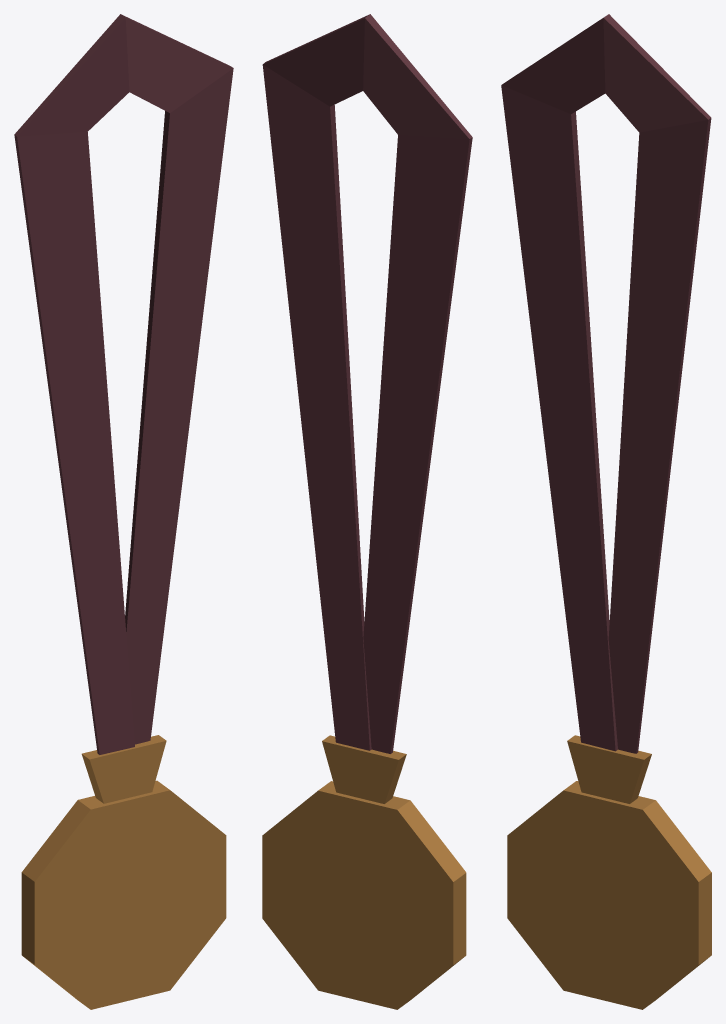
File: medal-big-gold-a.fbx
The picture shows the model from 3 angles, left to right: view 1: azimuth 30°, elevation 25°; view 2: azimuth 150°, elevation 25°; view 3: azimuth 330°, elevation 25°; orthographic projection.
Visible parts, largest first — view 1: medal-big-gold-a; view 2: medal-big-gold-a; view 3: medal-big-gold-a.
Boxes of the visible parts, x1,y1,x2,y2 form: medal-big-gold-a: (14,14,233,1009); medal-big-gold-a: (262,14,472,1009); medal-big-gold-a: (501,14,711,1009).
Bounding box in the file's own units: 0.0736 × 0.3257 × 0.00886.
